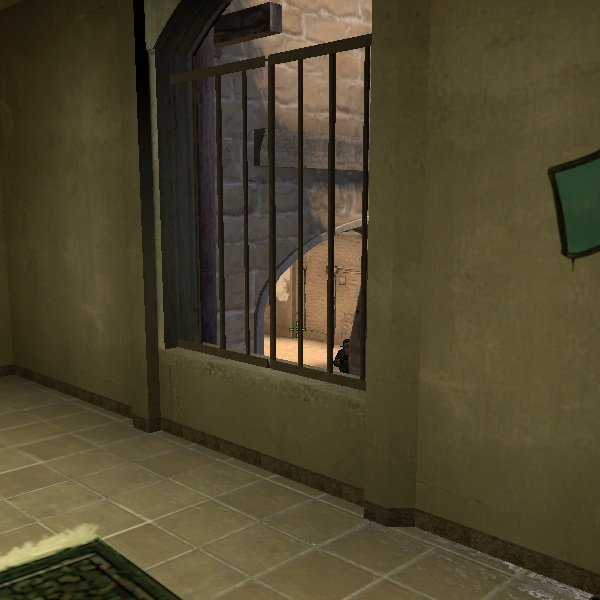t_body: (327, 334, 363, 376)
